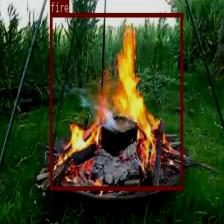fire: (50, 12, 182, 190)
